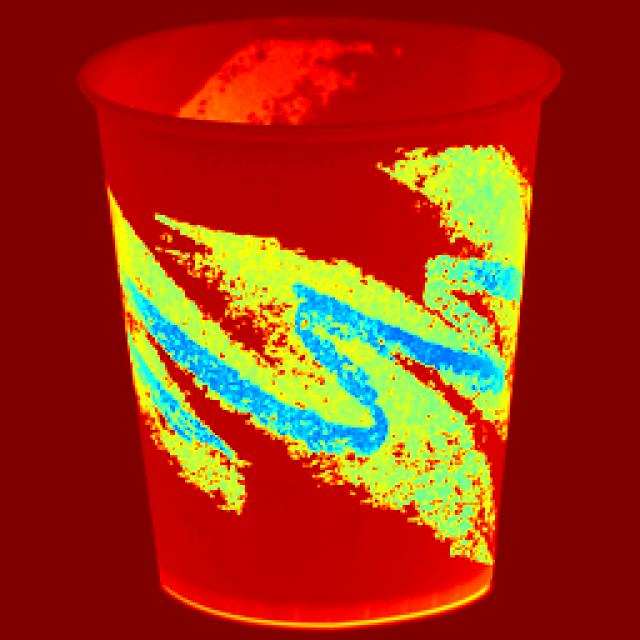Paper Cups: (90, 23, 528, 628)
